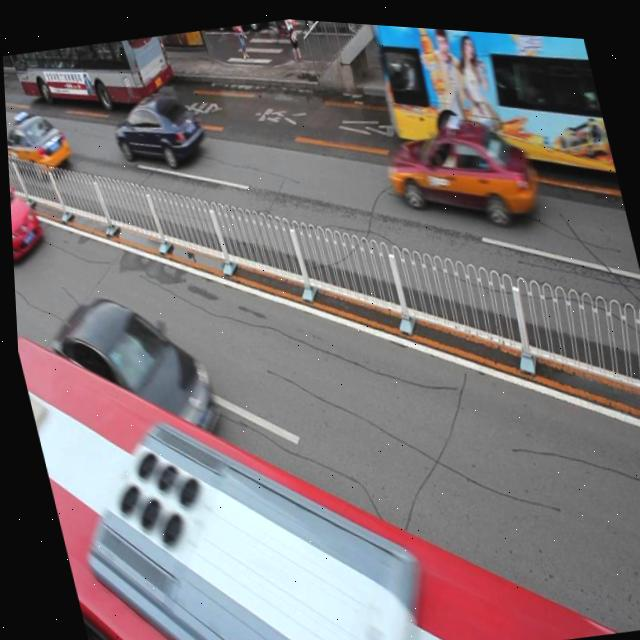car: (37, 275, 219, 459), (373, 90, 545, 241), (105, 83, 207, 176), (4, 102, 74, 184), (7, 166, 49, 267)
van: (9, 233, 609, 640), (366, 19, 615, 202), (11, 26, 179, 125)
